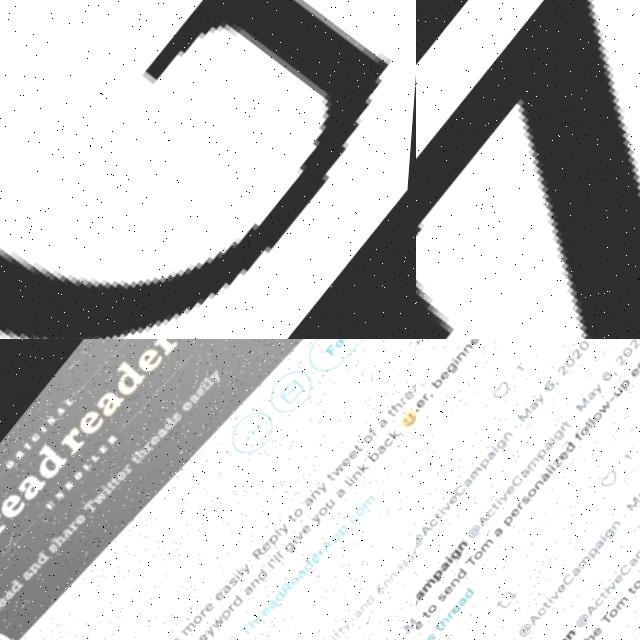0: (567, 359, 580, 372), (581, 343, 595, 355), (625, 349, 638, 361)
1: (519, 367, 530, 377), (629, 456, 638, 466)
2: (560, 367, 574, 380), (618, 357, 631, 370), (575, 351, 588, 363), (631, 340, 640, 353)
6: (604, 373, 619, 387), (546, 384, 560, 396)
G: (0, 0, 416, 339)
Z: (416, 0, 640, 339)
